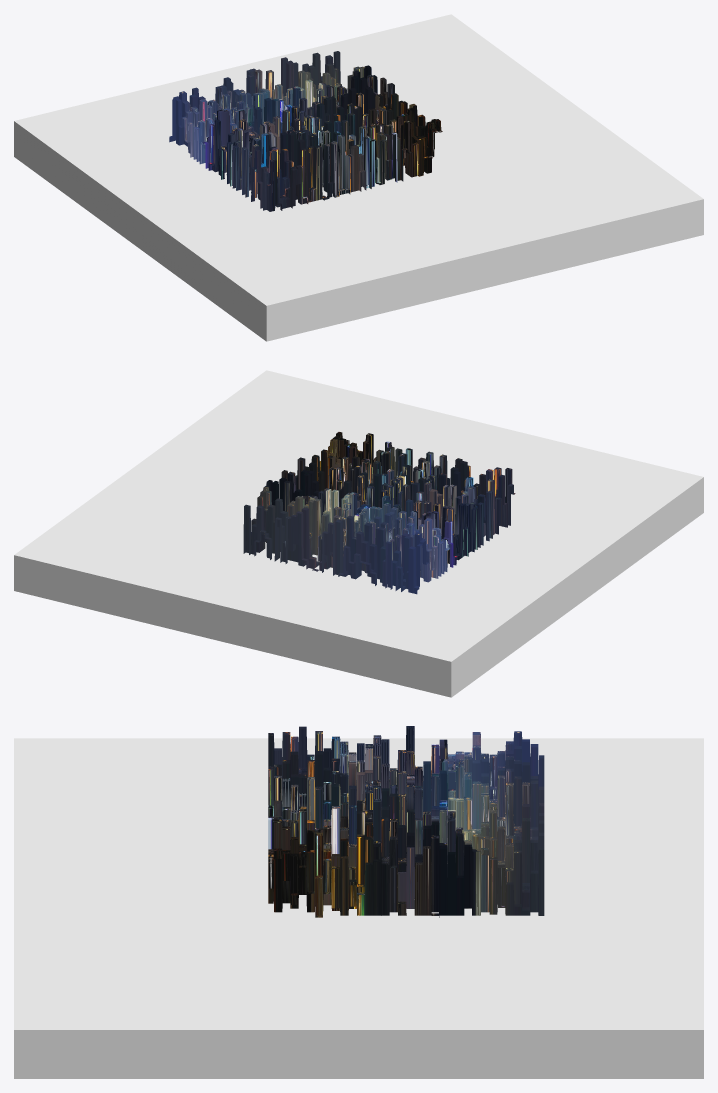
3 views of the same model, one above another, from view 1: azimuth 30°, elevation 25°; view 2: azimuth 150°, elevation 25°; view 3: azimuth 270°, elevation 25° (orthographic). The views are drawn at different scales.
Parts seen in each view (by area): view 1: 平面.001, 平面; view 2: 平面.001, 平面; view 3: 平面.001, 平面.
Part boxes in pixels (x1,y1,x2,y2): 平面.001: (14,14,703,341); 平面: (169,51,442,211); 平面.001: (14,370,703,697); 平面: (243,432,515,594); 平面.001: (14,738,703,1078); 平面: (268,726,544,917).
Size of the model in its own units: 50 by 10.09 by 50.
Materials: 2 (1 with a texture image).
